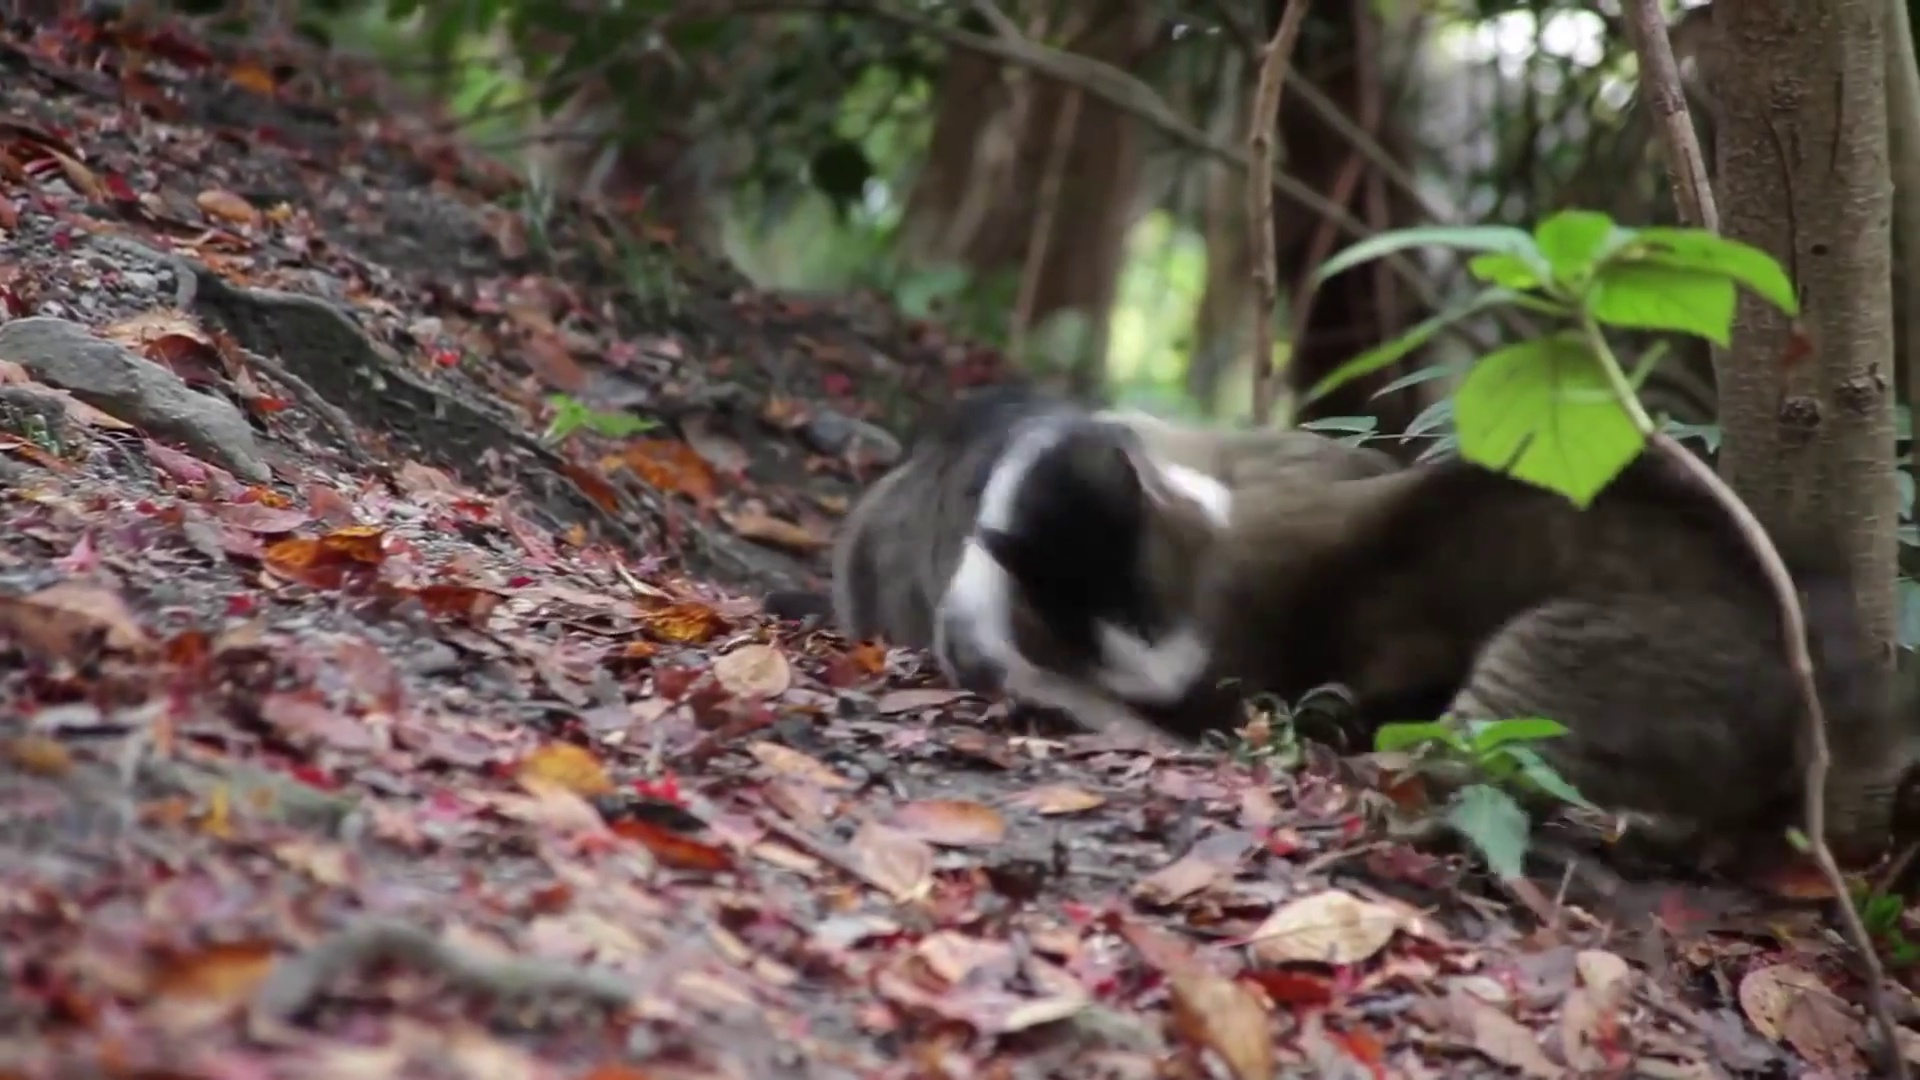black-white: (836, 407, 1222, 717)
pure black: (1203, 425, 1785, 822)
